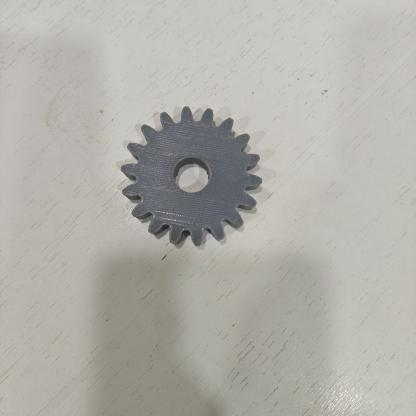gear: (115, 93, 278, 257)
